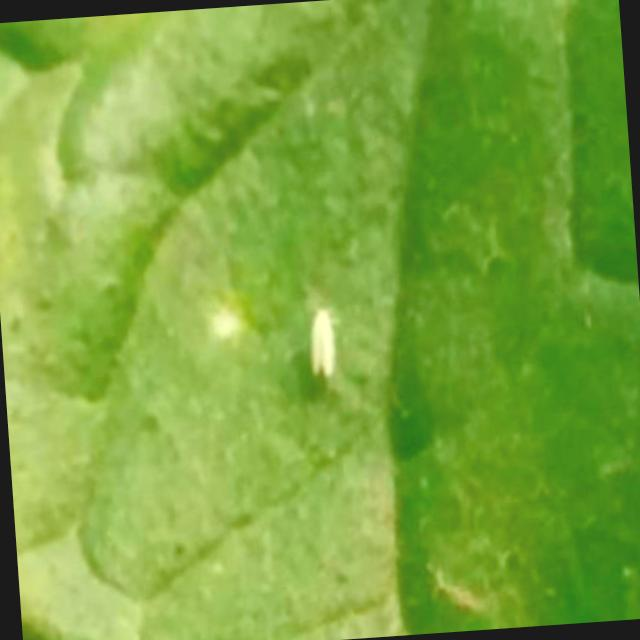Silverleaf whitefly: (272, 284, 358, 393)
